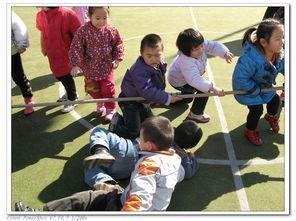Fall-Detected: (15, 115, 190, 216)
